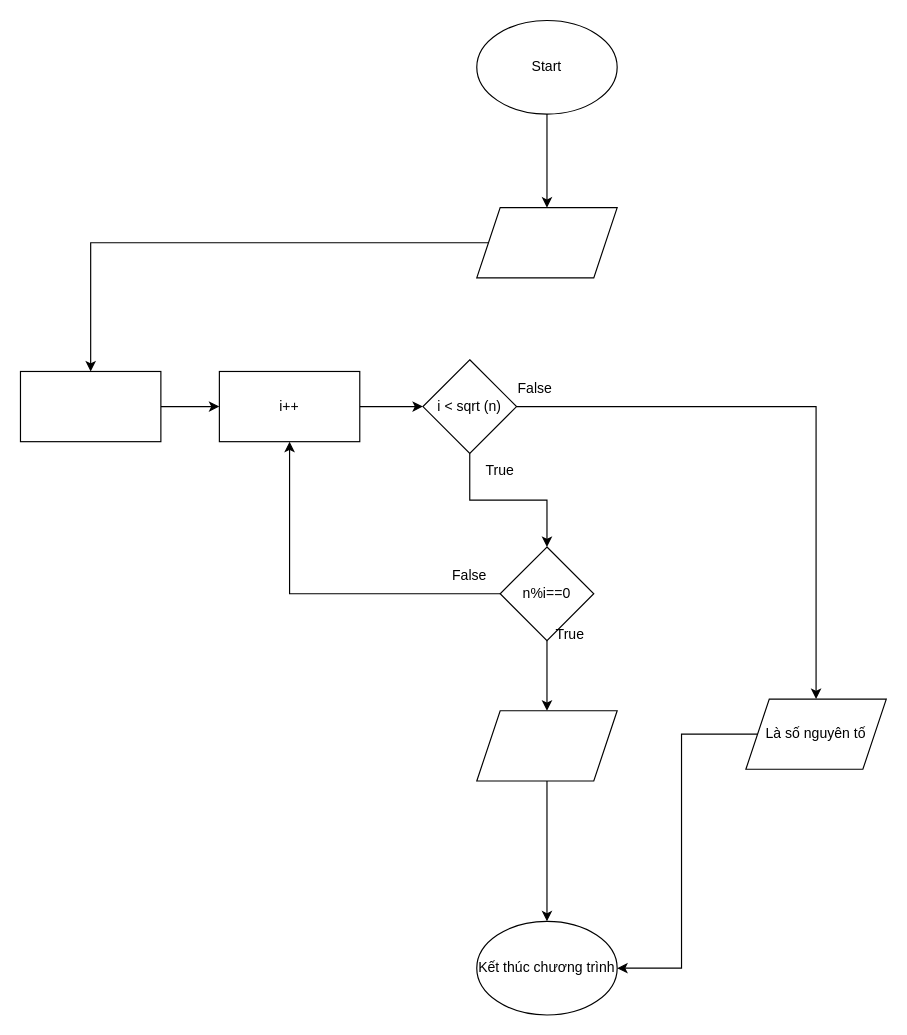
The diagram is 907 pixels wide and 1035 high, and some of its shapes have lost their labels. Each missing label, with the centre of its shape:
"Cho i = 2" goes at (x=90, y=406).
"Không phải là số nguyên tố" goes at (x=546, y=745).
"Nhập vào một số nguyên dương n" goes at (x=546, y=242).
